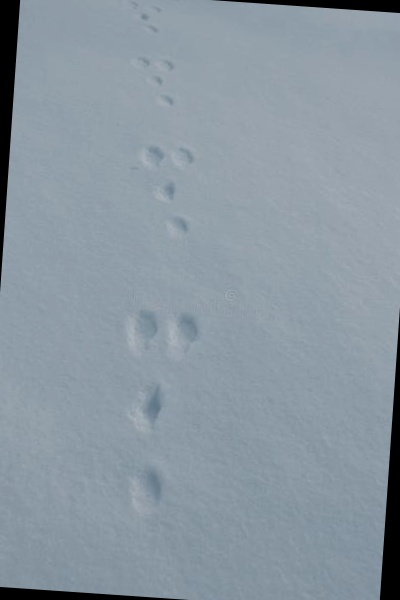rabbit: (81, 305, 261, 529)
